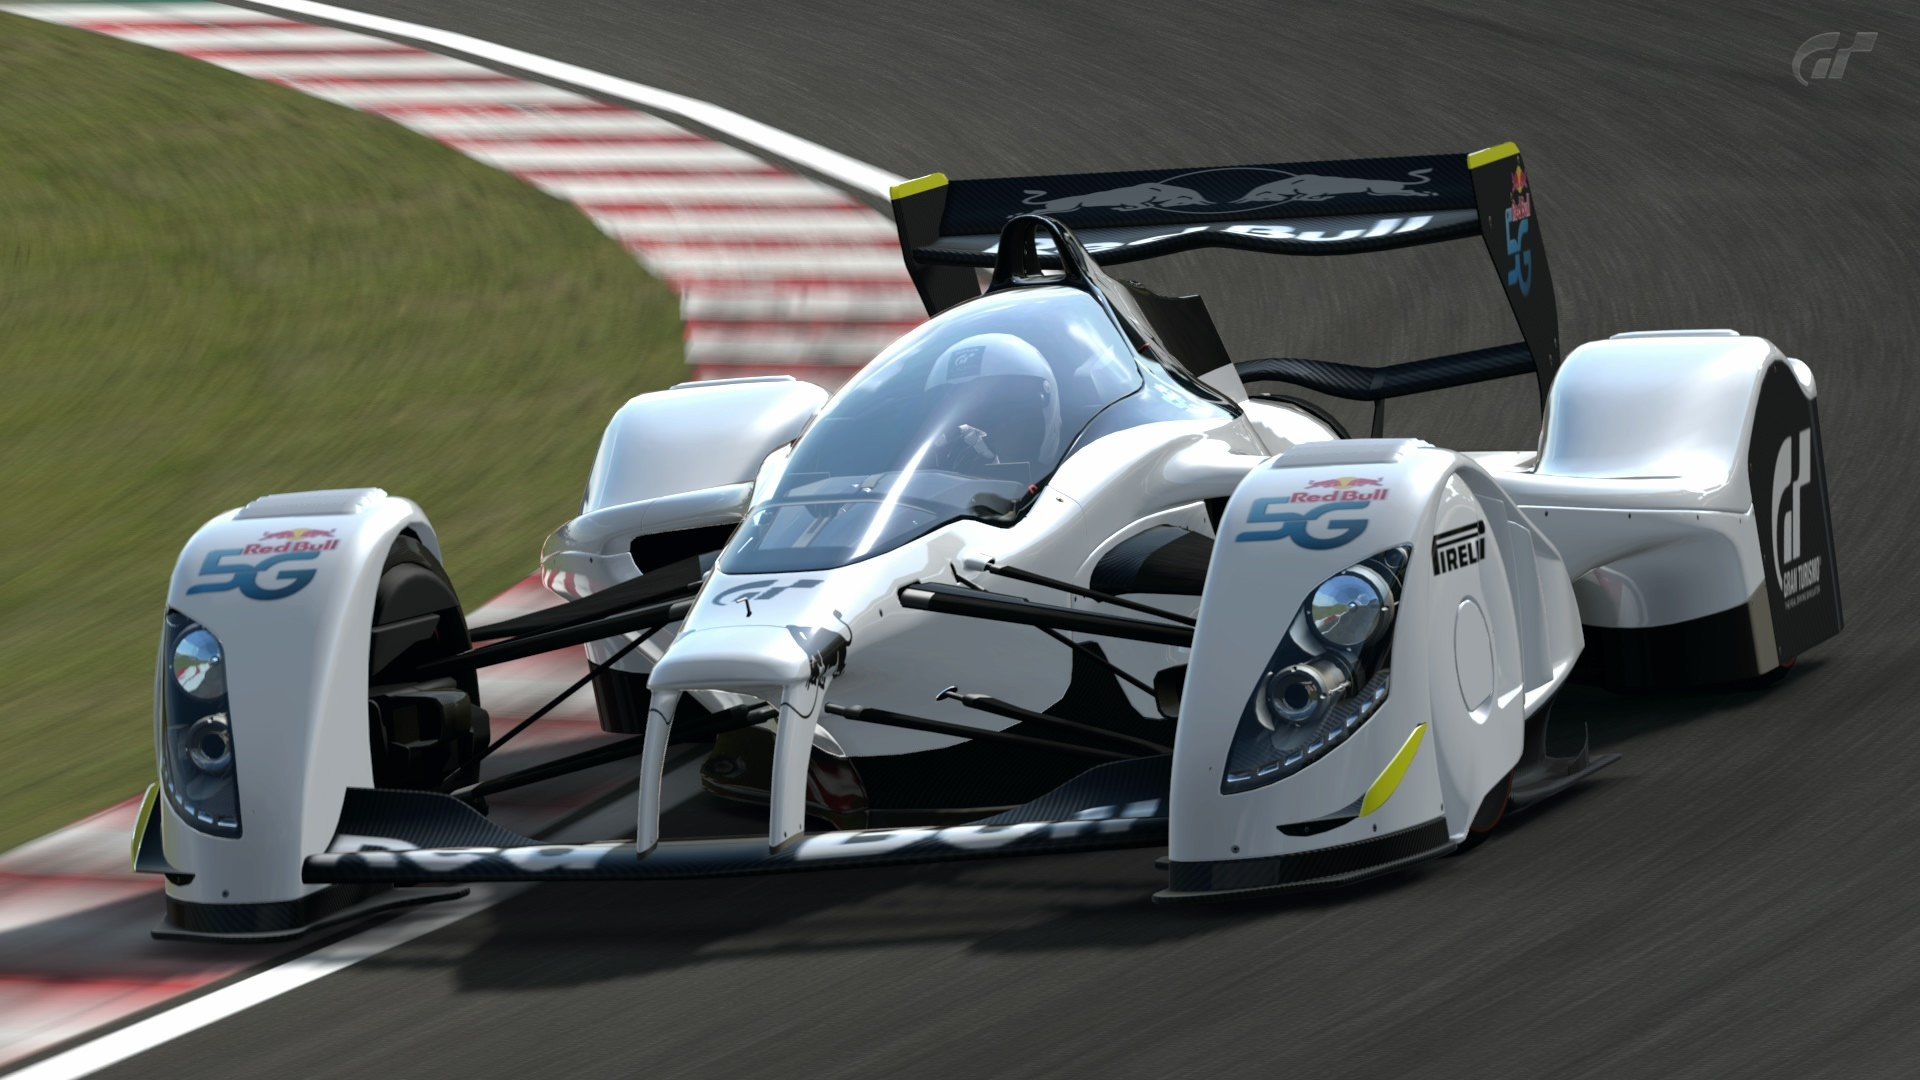f1_car: (102, 129, 1874, 965)
